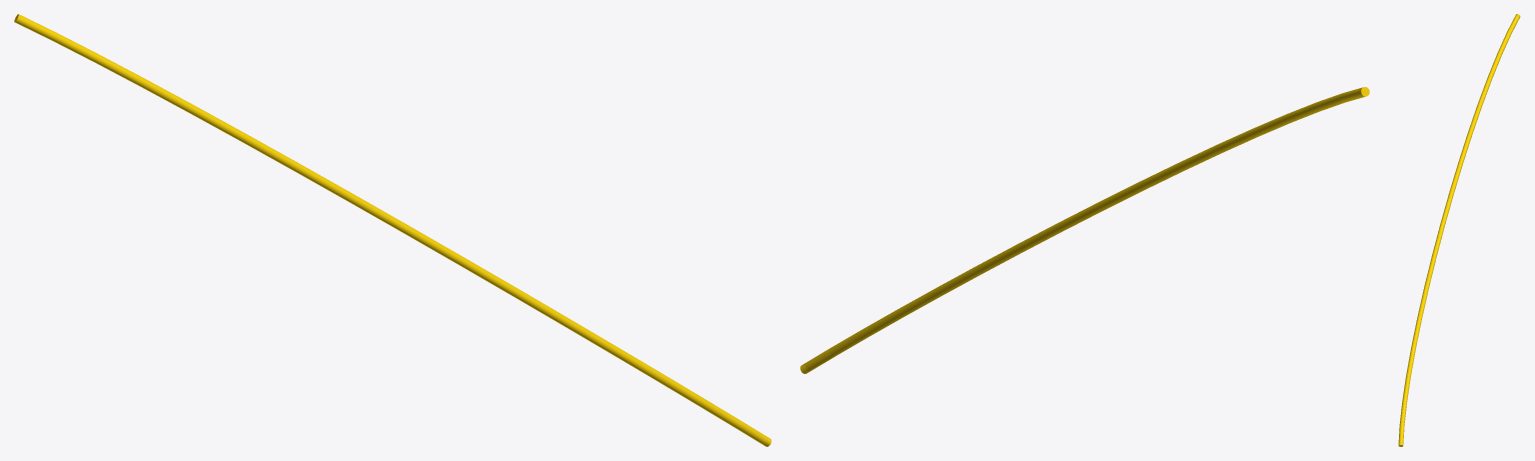
File: Event_421556567_track_3.fbx
3 renders of one model, left to right at view 1: azimuth 30°, elevation 25°; view 2: azimuth 150°, elevation 25°; view 3: azimuth 270°, elevation 25°, orthographic. The views are drawn at different scales.
Visible parts, largest first — view 1: Model; view 2: Model; view 3: Model.
Boxes of the visible parts, x1,y1,x2,y2 form: Model: (14,14,771,446); Model: (800,87,1369,373); Model: (1398,14,1520,446).
Size of the model in its own units: 3.22 by 2.42 by 0.9956.
